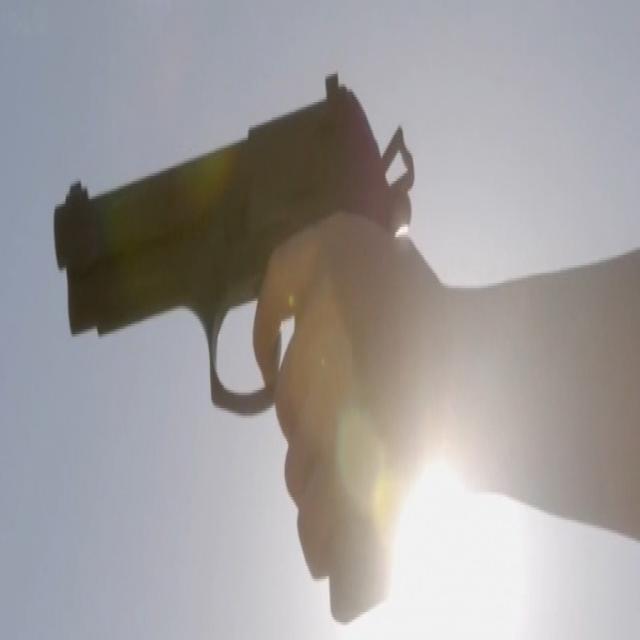weapons: (46, 61, 407, 572)
